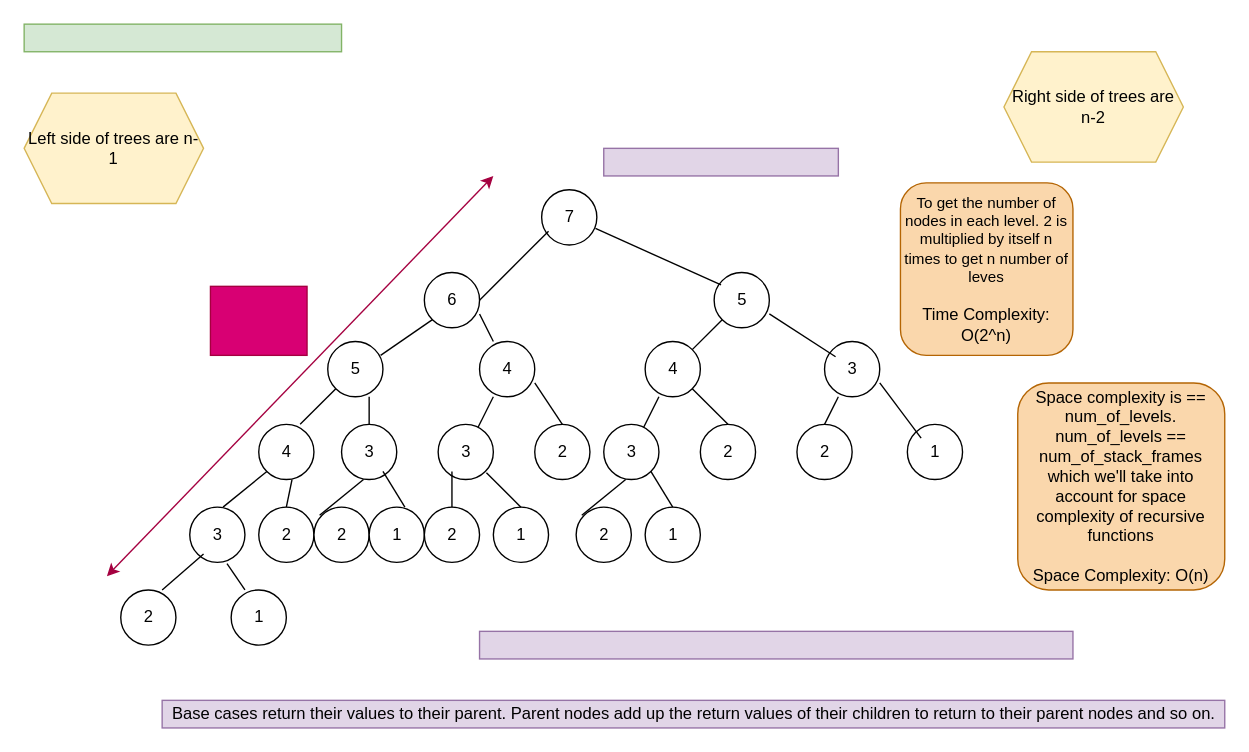
This 1249x752 diagram has some shape labels left out. The shapes that lost their labels are listed below. From the top down, each one's centre as x and y in pixels, then its label:
the point at 182,37: Visualization: Fibonacci w/ Recursion
the point at 720,161: Initial call to the function is 7
the point at 258,320: height = n levels = n
the point at 775,644: Finish the tree until base cases are reached. Base cases for fibonacci are <= 2
